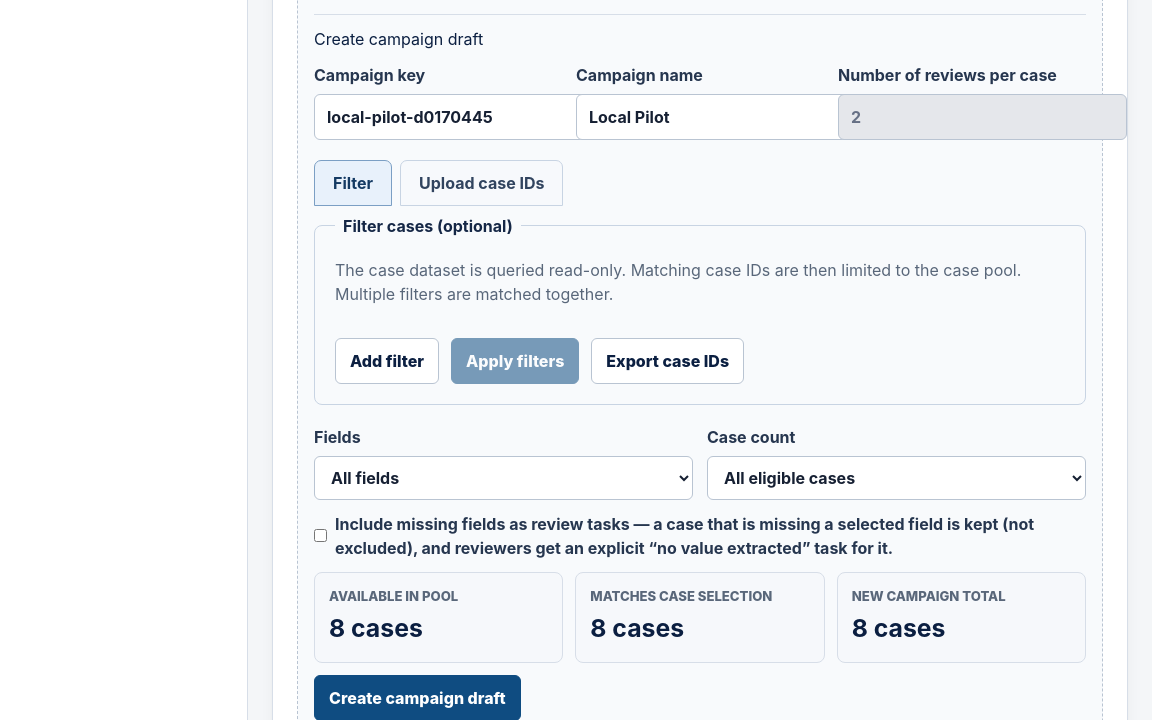
Test: admin dashboard campaign availability › keeps edited filters unapplied until Apply filters succeeds
(page scrolled)
Expected: the button "Create campaign draft" is enabled, [314,675,521,719]
Expected: the button "Export case IDs" is enabled, [591,338,744,384]
Click the button "Add filter" at x=387, y=361, box [335,338,439,384]
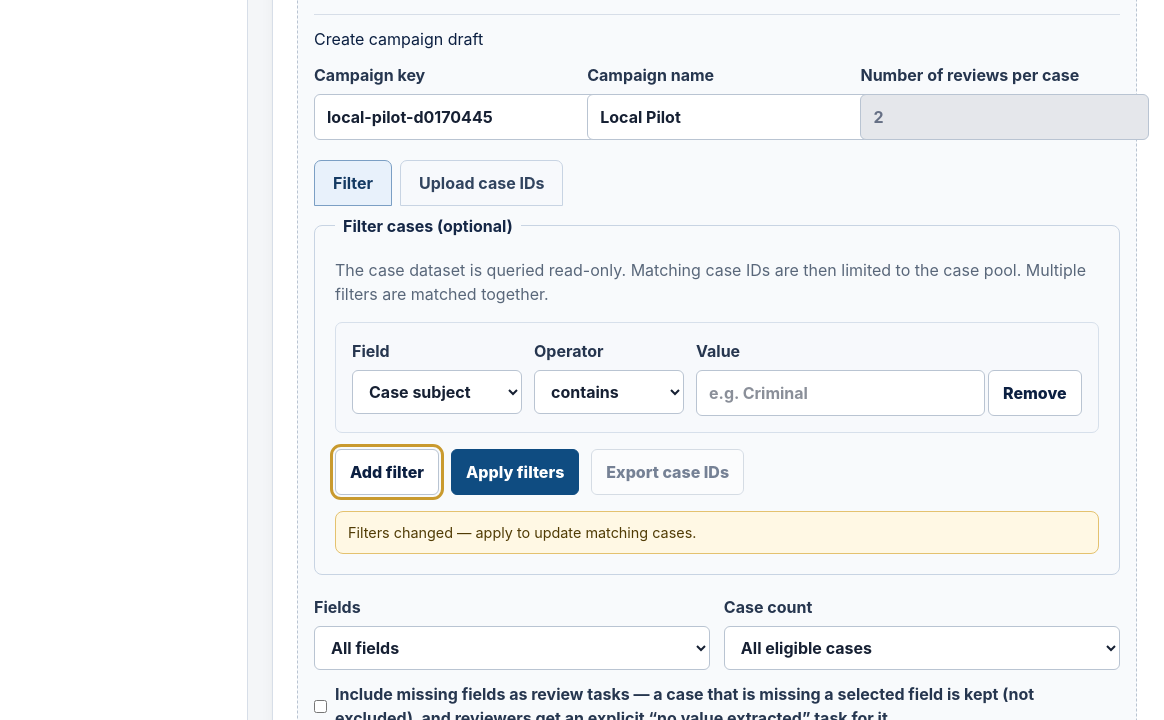
Type "Criminal" into the field with placeholder "e.g. Criminal" at x=840, y=393, box [696,370,985,416]
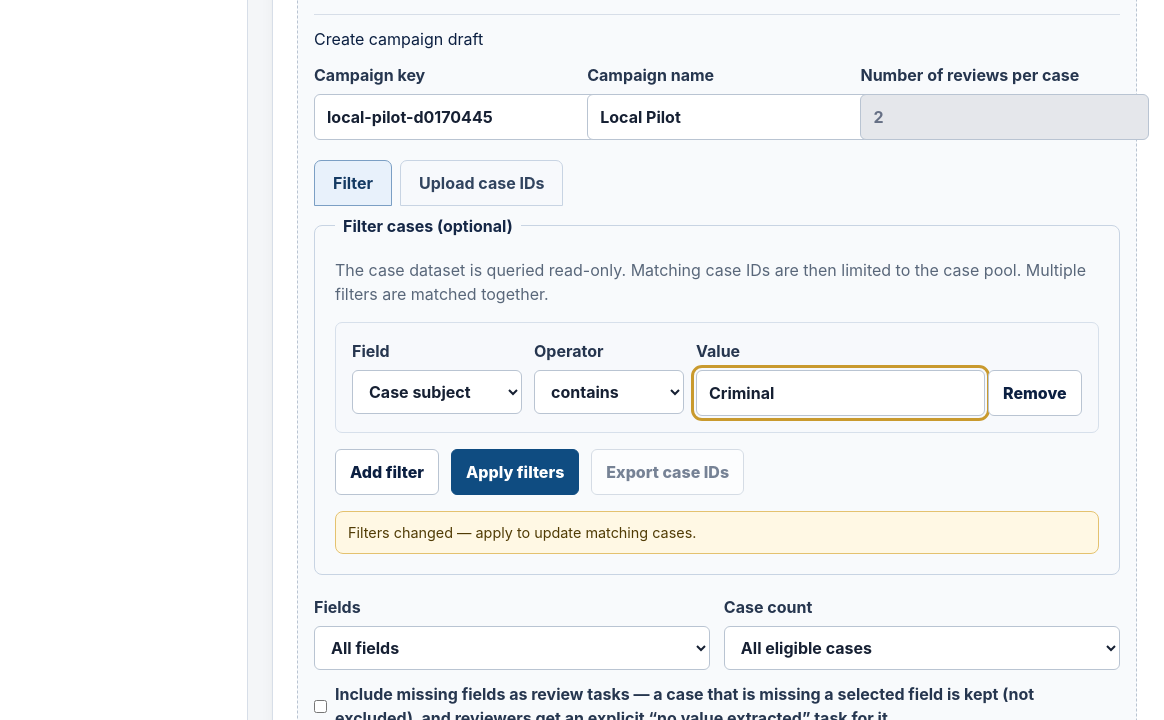
Expected: the button "Export case IDs" is disabled, [591,449,744,495]
Expected: the text "Filters changed — apply to update matching cases." is shown, [335,511,1099,554]
Click the button "Apply filters" at x=515, y=472, box [451,449,579,495]
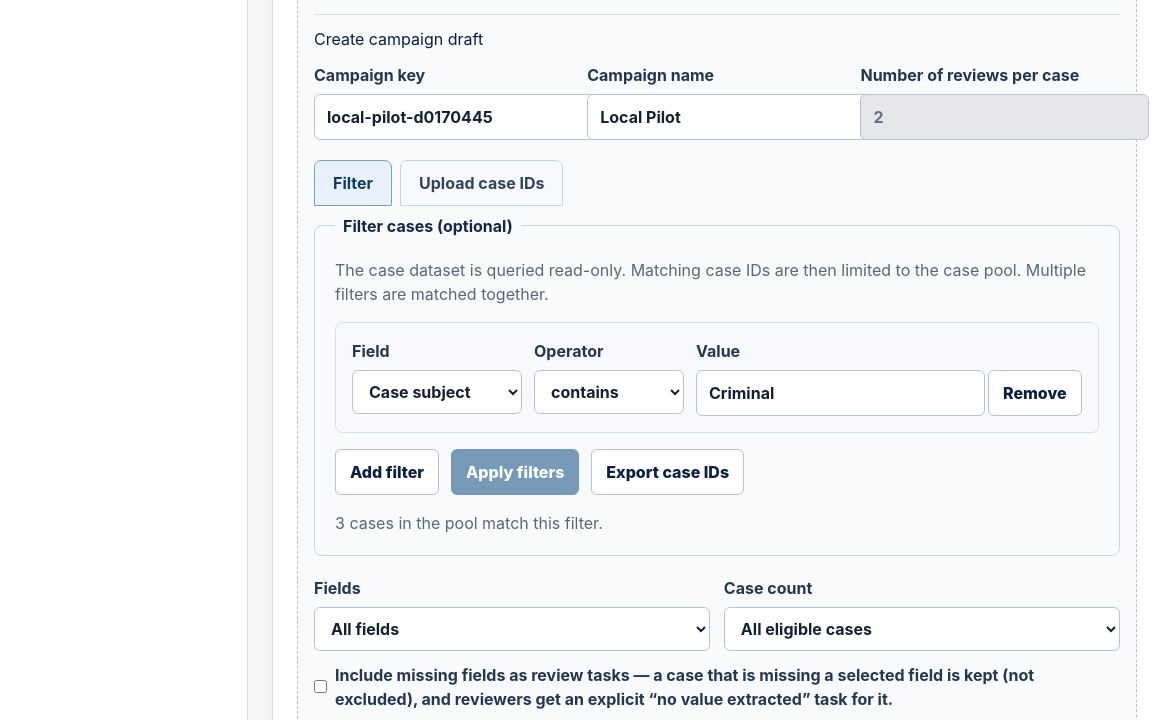
Expected: the text "3 cases in the pool match this filter." is shown, [335,513,603,533]
Expected: the button "Export case IDs" is enabled, [591,449,744,495]
